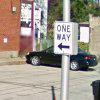Car: (25, 44, 100, 72)
